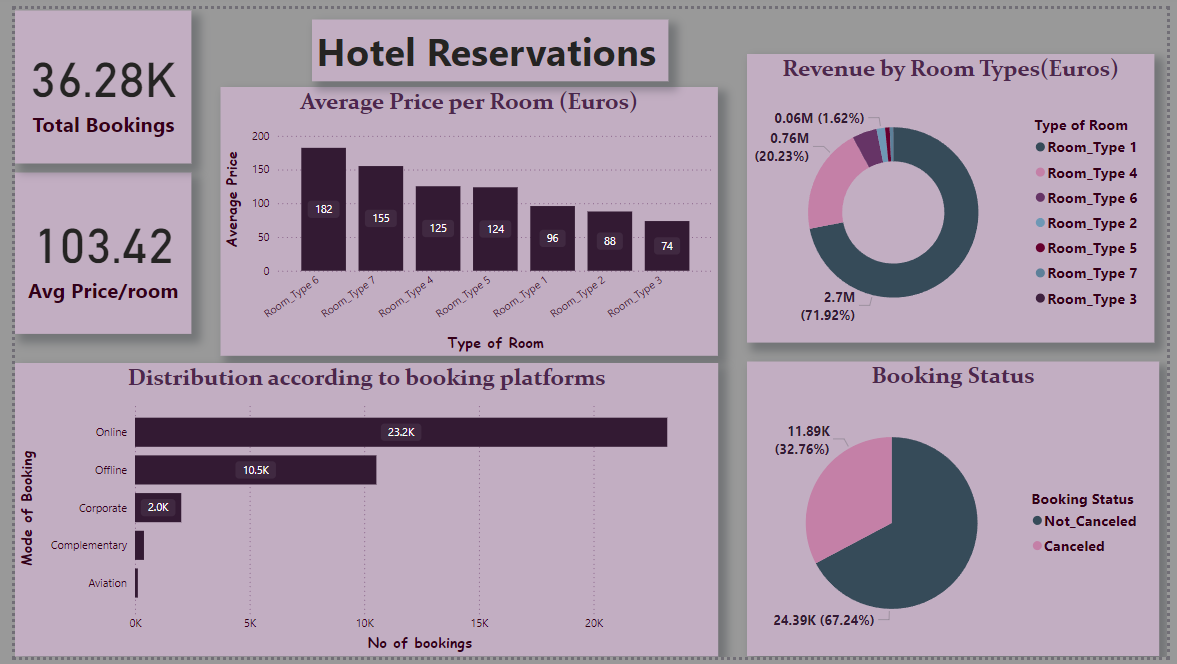

This screenshot's page, from the dashboard's own definition file:
{"tool":"powerbi","page":{"name":"Page 1","canvas":[1280,720],"ordinal":0},"visuals":[{"type":"clusteredColumnChart","title":"Average Price per Room (Euros)","fields":{"Y":["Avg(Hotel Reservations.avg_price_per_room)"],"Category":["Hotel Reservations.room_type_reserved"]},"box":[228.9,86.4,552.4,298.8],"z":0},{"type":"card","fields":{"Values":["Avg(Hotel Reservations.avg_price_per_room)"]},"box":[0,180.9,196,179.6],"z":1000},{"type":"card","fields":{"Values":["CountNonNull(Hotel Reservations.Booking_ID)"]},"box":[0,1.4,196,170],"z":2000},{"type":"donutChart","title":"Revenue by Room Types(Euros)","fields":{"Category":["Hotel Reservations.room_type_reserved"],"Y":["Sum(Hotel Reservations.avg_price_per_room)"]},"box":[812.9,50.7,452.3,320.8],"z":3000},{"type":"pieChart","title":"Booking Status","fields":{"Category":["Hotel Reservations.booking_status"],"Y":["CountNonNull(Hotel Reservations.booking_status)"]},"box":[812.9,392,457.8,327.6],"z":4000},{"type":"barChart","title":"Distribution according to booking platforms","fields":{"Category":["Hotel Reservations.market_segment_type"],"Y":["CountNonNull(Hotel Reservations.market_segment_type)"]},"box":[0,393.4,781.3,326.2],"z":5000},{"type":"textbox","box":[330.4,11,396.1,68.5],"z":5001}]}

Visuals, with their boxes in screenshot pixels (x1, y1, x2, y2), scaled from the page's 1280x720 canvas onto the 1177x664 screenshot:
"Average Price per Room (Euros)" clusteredColumnChart: bbox=(210, 80, 718, 355)
card - Avg(Hotel Reservations.avg_price_per_room): bbox=(0, 167, 180, 332)
card - CountNonNull(Hotel Reservations.Booking_ID): bbox=(0, 1, 180, 158)
"Revenue by Room Types(Euros)" donutChart: bbox=(747, 47, 1163, 343)
"Booking Status" pieChart: bbox=(747, 362, 1168, 663)
"Distribution according to booking platforms" barChart: bbox=(0, 363, 718, 663)
textbox: bbox=(304, 10, 668, 73)
